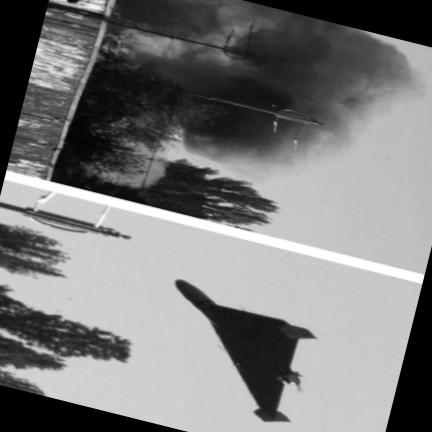Shahed: (174, 278, 316, 421)
